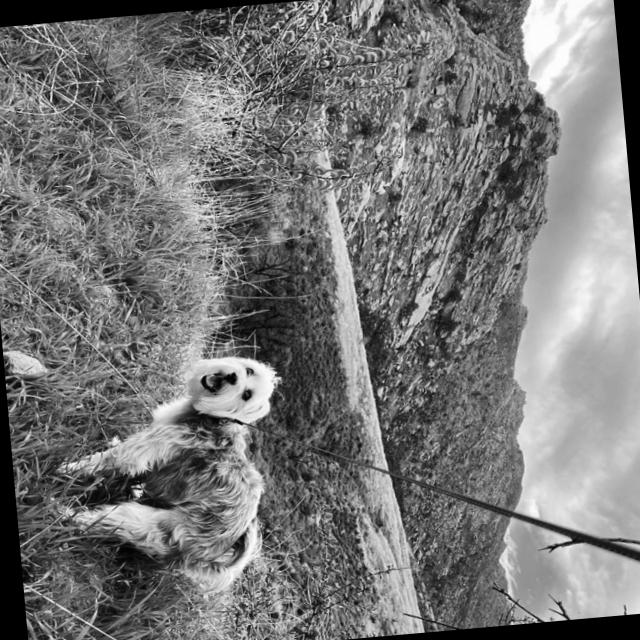squatting: (38, 342, 305, 608)
